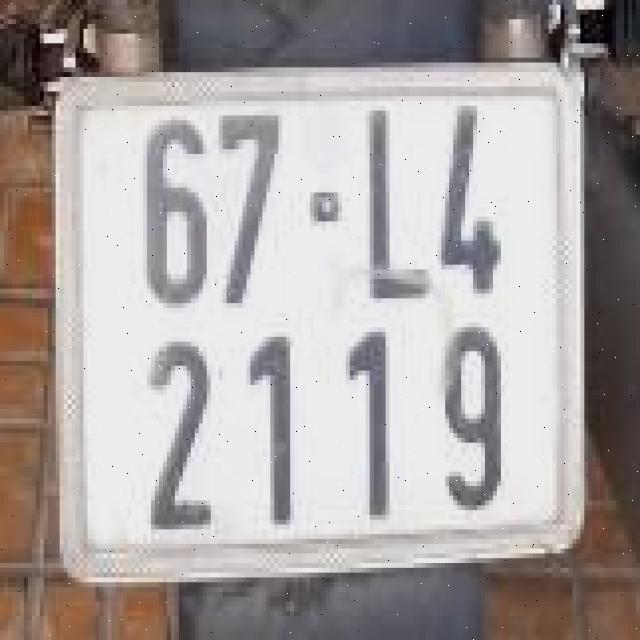1: (342, 306, 425, 532), (244, 329, 324, 536)
2: (149, 335, 229, 546)
4: (431, 94, 507, 291)
6: (137, 113, 217, 306)
7: (213, 108, 288, 306)
9: (429, 306, 521, 517)
L: (352, 108, 427, 301)
